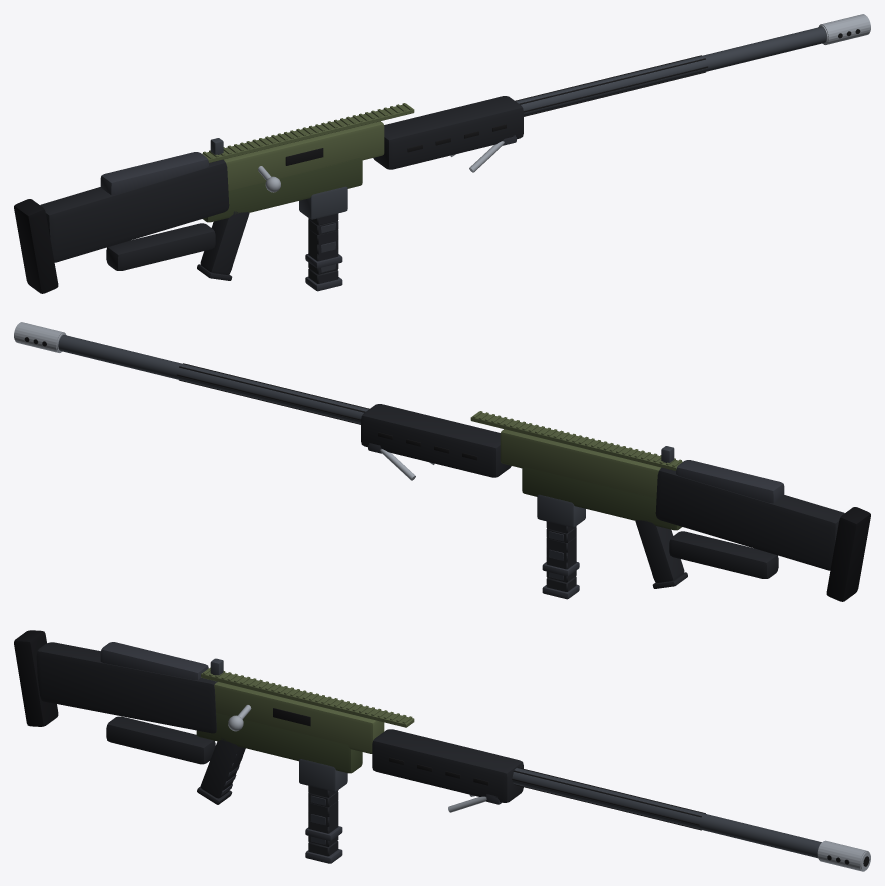
3 views of the same model, one above another, from view 1: azimuth 30°, elevation 25°; view 2: azimuth 150°, elevation 25°; view 3: azimuth 330°, elevation 25° (orthographic).
Parts seen in each view (by area): view 1: sr50_body, sr50_stock, mag_ext, mag_std; view 2: sr50_body, sr50_stock, mag_ext, mag_std; view 3: sr50_body, sr50_stock, mag_ext, mag_std.
Part boxes in pixels (x1,y1,x2,y2): sr50_body: [106, 14, 870, 280]; sr50_stock: [14, 152, 229, 293]; mag_ext: [305, 213, 342, 291]; mag_std: [305, 217, 342, 268]; sr50_body: [14, 322, 778, 588]; sr50_stock: [655, 460, 870, 601]; mag_ext: [542, 521, 579, 599]; mag_std: [542, 526, 579, 576]; sr50_body: [106, 658, 870, 871]; sr50_stock: [14, 630, 217, 733]; mag_ext: [305, 785, 342, 863]; mag_std: [305, 790, 342, 840].
Bounding box in the file's own units: 1.36 × 0.261 × 0.097.
